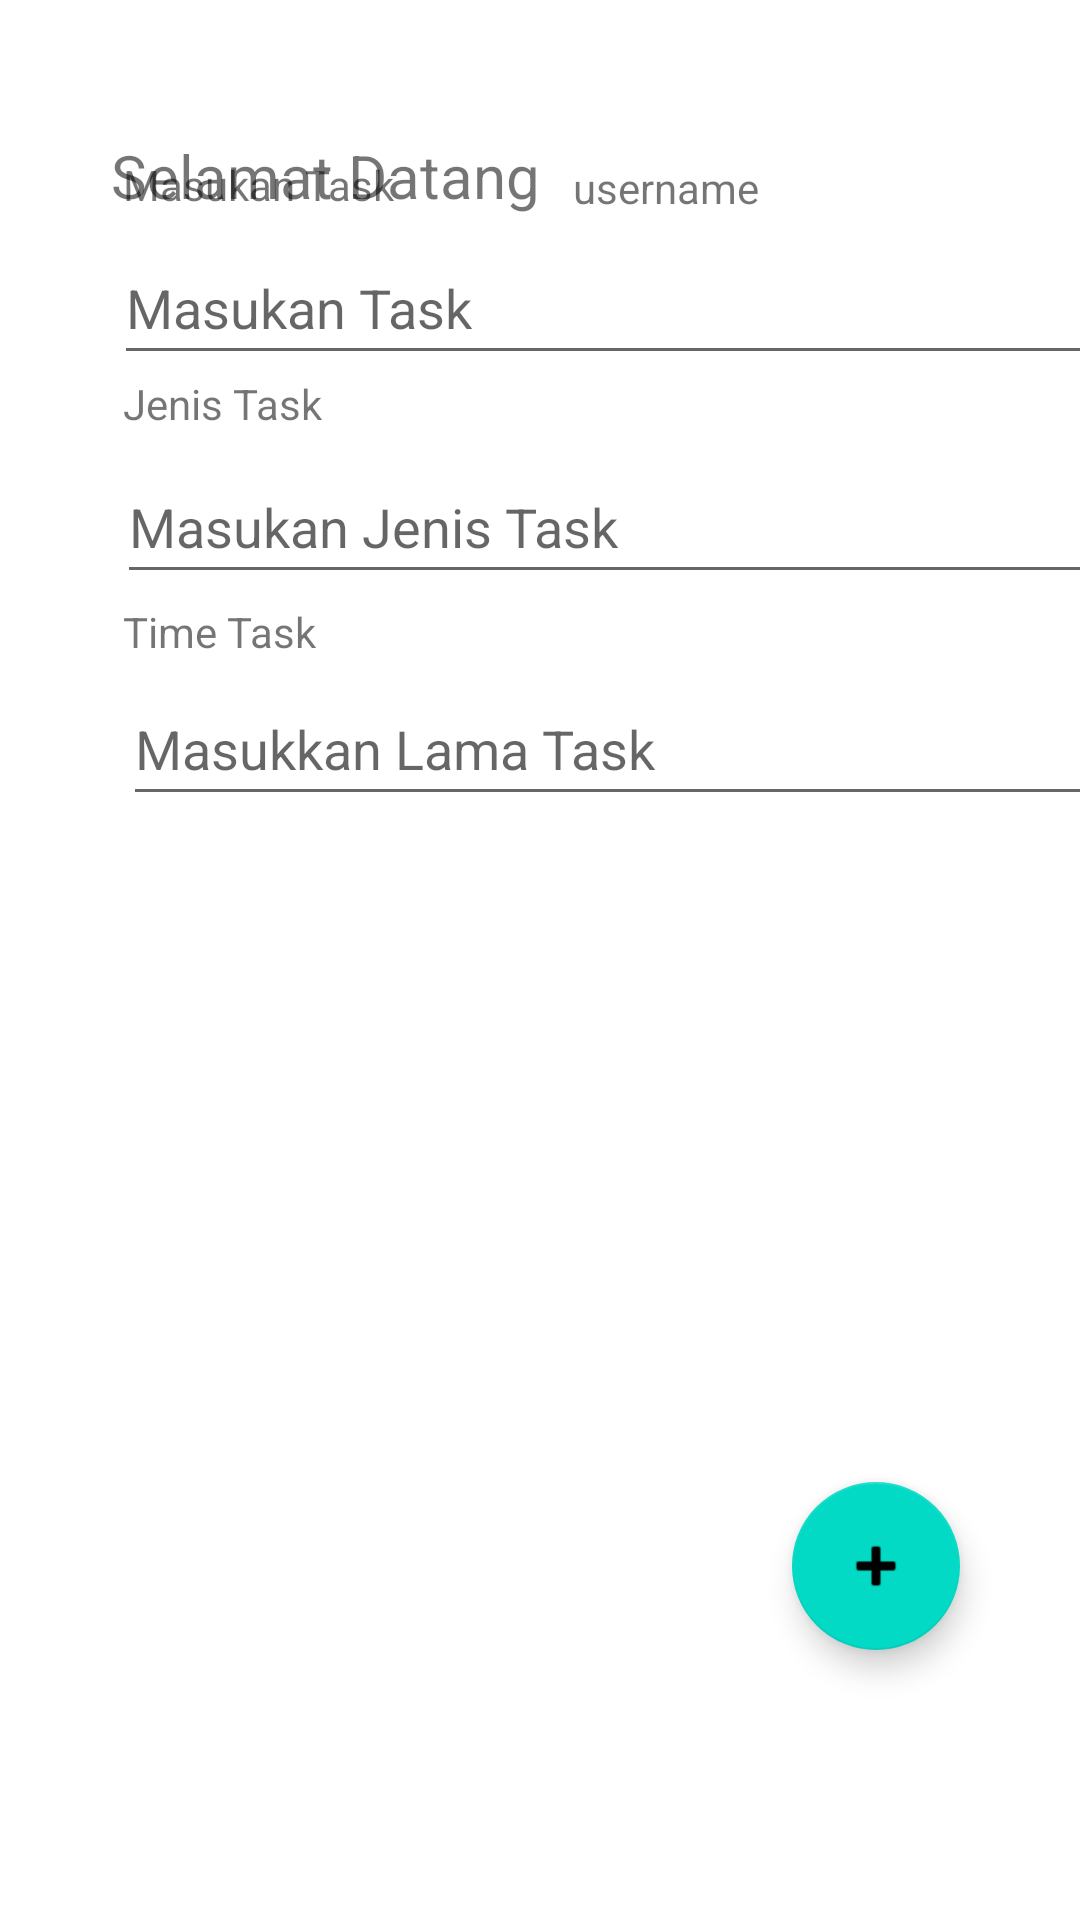

Icon bounding boxes for this 1080px×1920px phone screenshot, format (x1, y1, x2, y2):
add: (792, 1482, 960, 1650)
